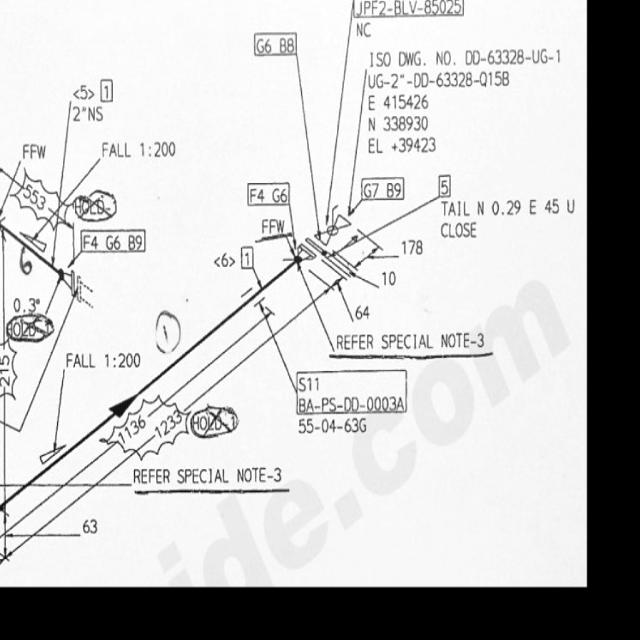Item number: (294, 366, 409, 416), (354, 1, 469, 21), (80, 226, 148, 255), (253, 28, 299, 59), (245, 179, 292, 209), (361, 174, 406, 202), (260, 215, 286, 239), (239, 244, 255, 271), (100, 76, 114, 103), (438, 172, 451, 198)
Measrement: (4, 279, 341, 563), (1, 162, 72, 232), (69, 99, 106, 128), (400, 236, 425, 259)
Pipeline: (3, 247, 304, 516)
Symbol: (290, 229, 334, 268), (108, 389, 144, 426)
Weld number: (188, 402, 240, 441), (5, 311, 56, 345), (75, 185, 119, 224), (154, 307, 183, 357)
other: (367, 44, 562, 159), (439, 193, 575, 241), (100, 137, 180, 162), (65, 348, 143, 373), (297, 415, 370, 437)
